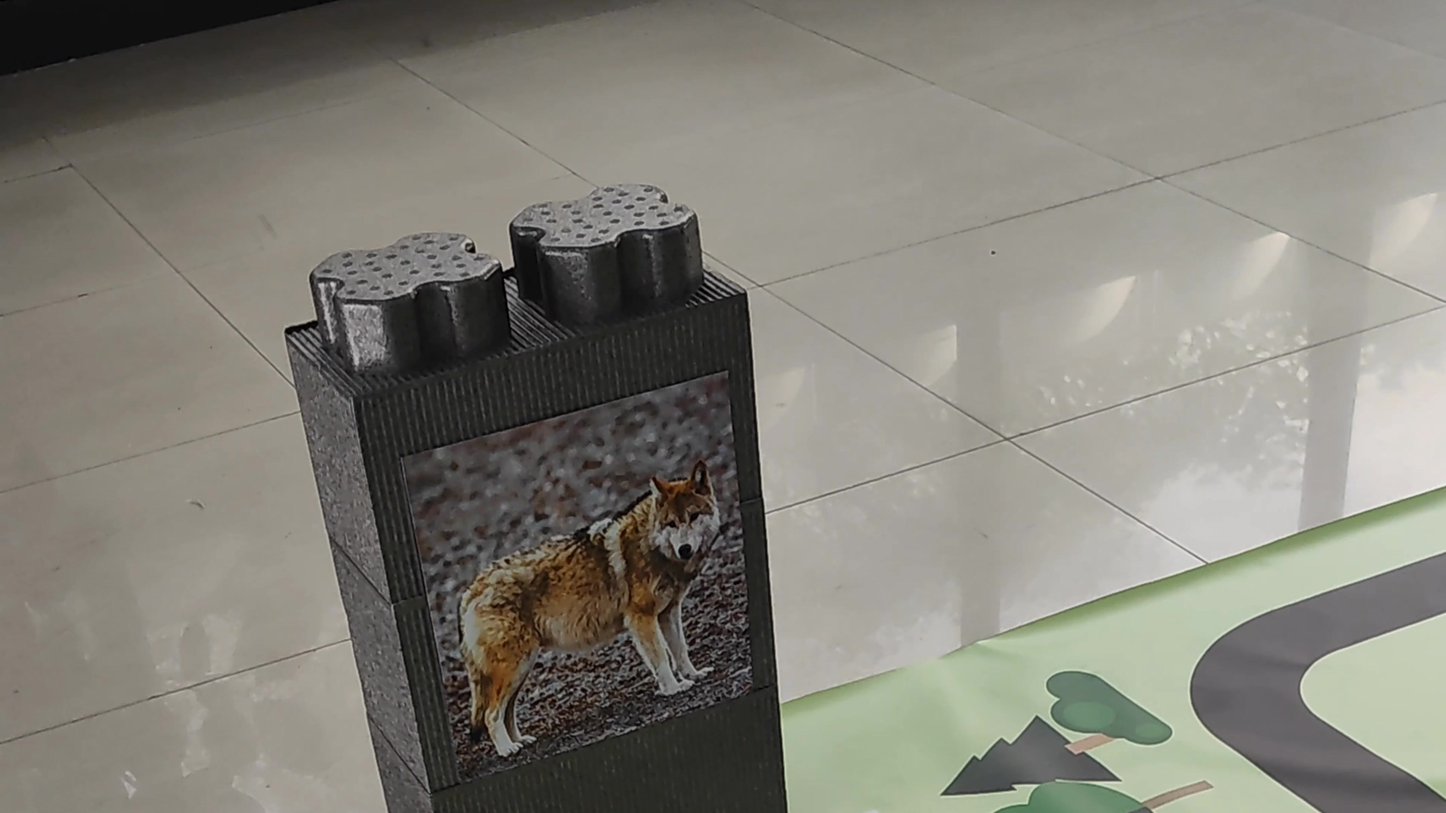wolf: (412, 429, 743, 726)
